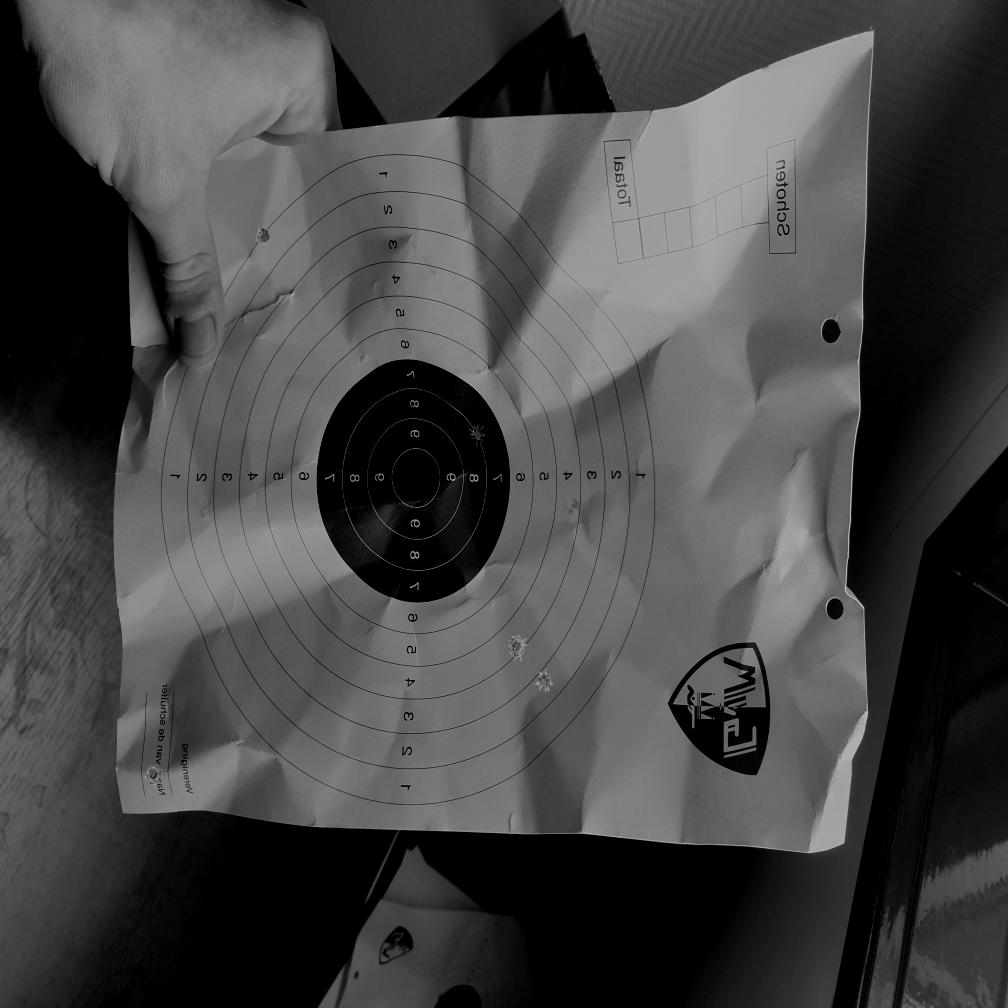0: (144, 764, 162, 786), (256, 226, 270, 245)
2: (535, 671, 553, 694)
4: (508, 635, 527, 660)
8: (468, 424, 486, 447)
Target: (160, 144, 657, 808)
black_contour: (317, 360, 510, 602)
